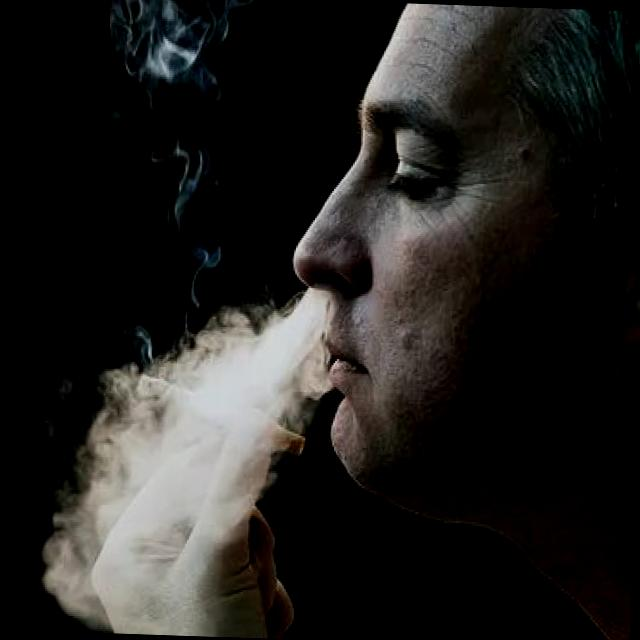cigarette: (124, 366, 309, 462)
